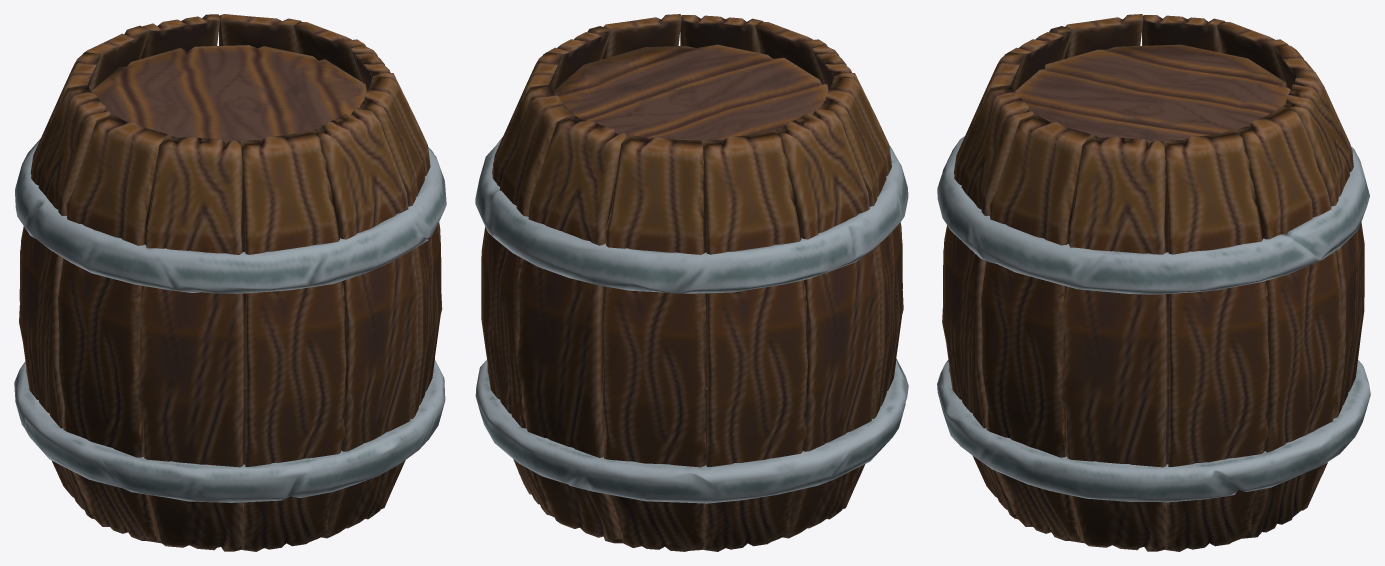
File: BarrelClosed.FBX
The picture shows the model from 3 angles, left to right: view 1: azimuth 30°, elevation 25°; view 2: azimuth 150°, elevation 25°; view 3: azimuth 270°, elevation 25°; orthographic projection.
Visible parts, largest first — view 1: BarrelClosed_01; view 2: BarrelClosed_01; view 3: BarrelClosed_01.
Part boxes in pixels (<box>): BarrelClosed_01: <box>14,14,446,551</box>; BarrelClosed_01: <box>475,14,908,551</box>; BarrelClosed_01: <box>937,14,1370,551</box>.
Bounding box in the file's own units: 1.42 × 1.47 × 1.42.
1 material, 1 textured.
